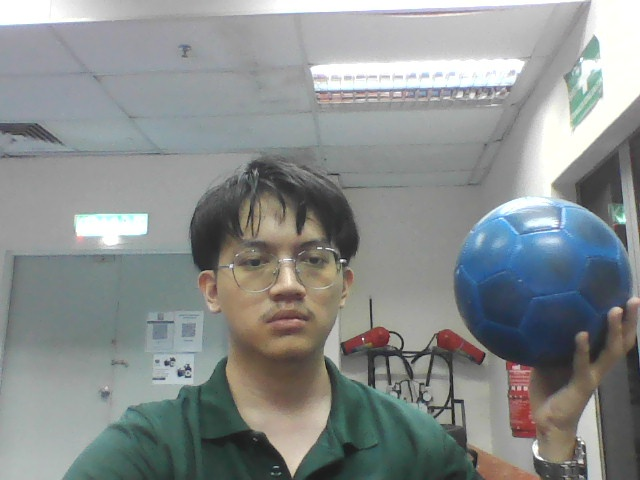Blue: (453, 196, 635, 366)
